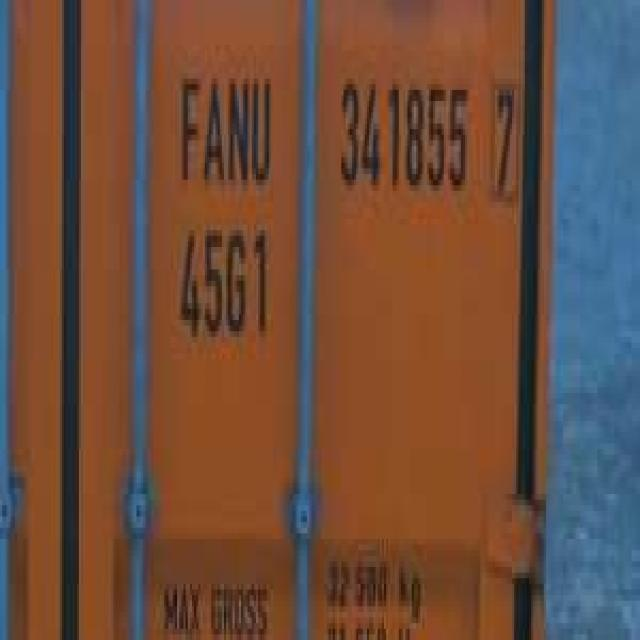dv: (486, 67, 523, 208)
owner: (171, 56, 275, 191)
serial: (333, 56, 469, 208)
size: (171, 213, 275, 348)
